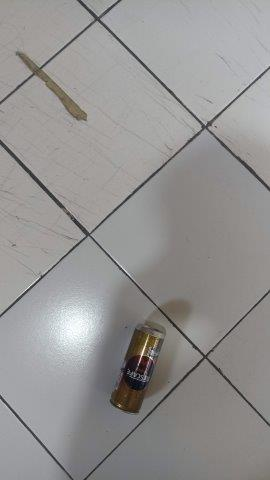kaleng: (109, 325, 166, 414)
